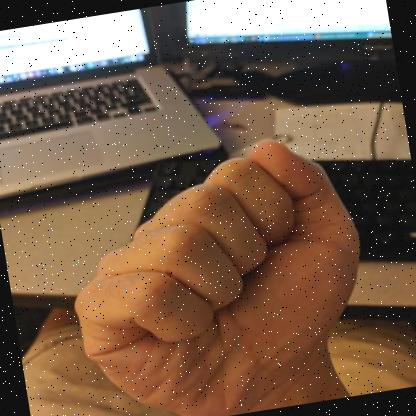A: (74, 139, 360, 416)
